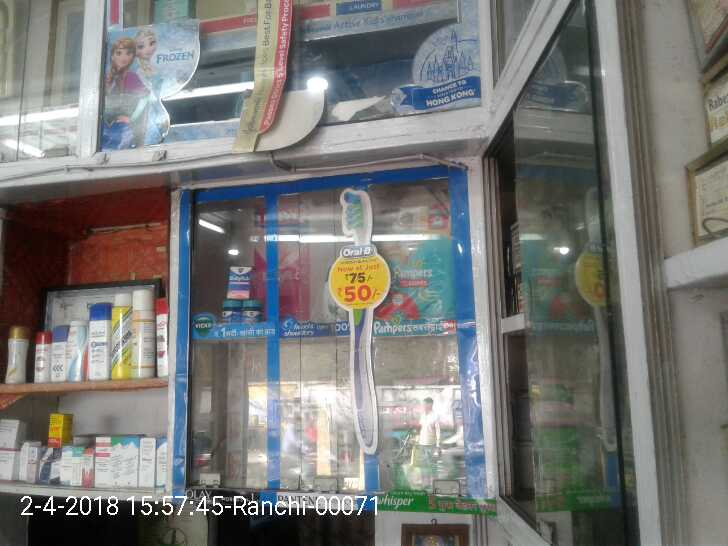vicks: (227, 265, 253, 297), (241, 299, 261, 323), (224, 299, 241, 324)
